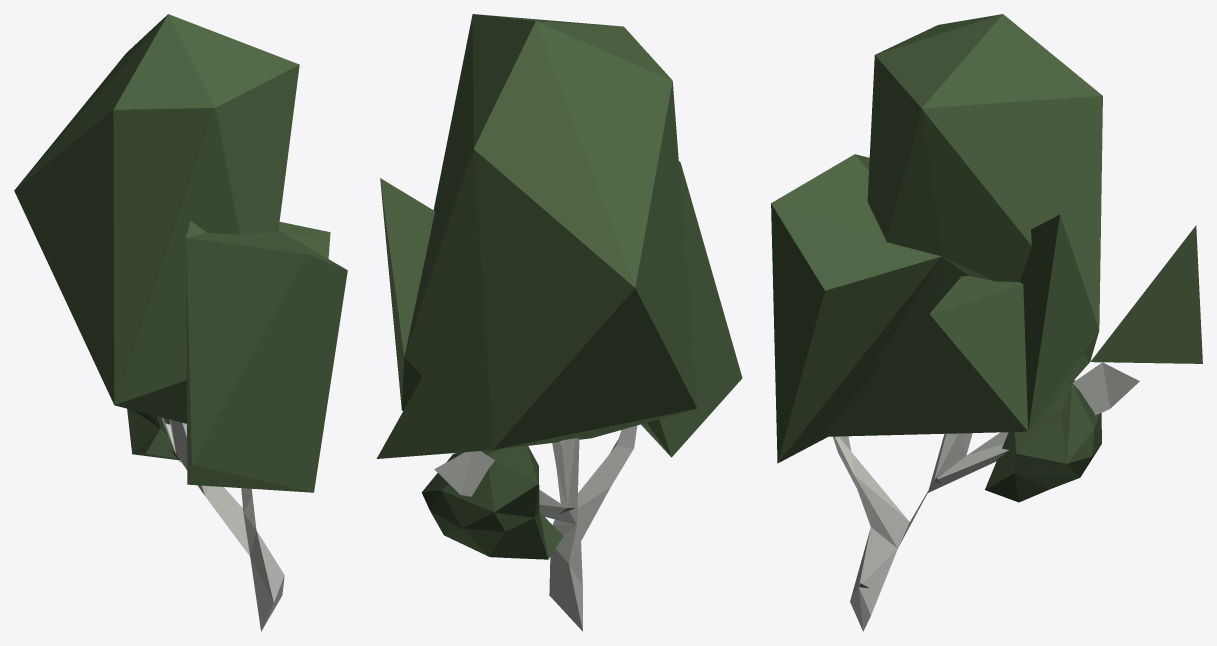
File: qn_birch_a_lod.glb
3 renders of one model, left to right at view 1: azimuth 30°, elevation 25°; view 2: azimuth 150°, elevation 25°; view 3: azimuth 270°, elevation 25°, orthographic. The views are drawn at different scales.
Visible parts, largest first — view 1: qn_birch_a_lod; view 2: qn_birch_a_lod; view 3: qn_birch_a_lod.
Part boxes in pixels (x1,y1,x2,y2): qn_birch_a_lod: (14,14,347,631); qn_birch_a_lod: (376,14,742,631); qn_birch_a_lod: (771,14,1202,631).
Size of the model in its own units: 1.52 by 3.39 by 2.2.
